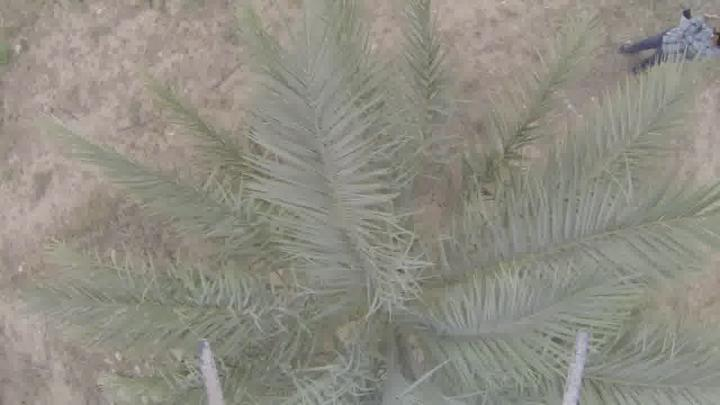Date-Palm-Crown: (149, 138, 595, 404)
